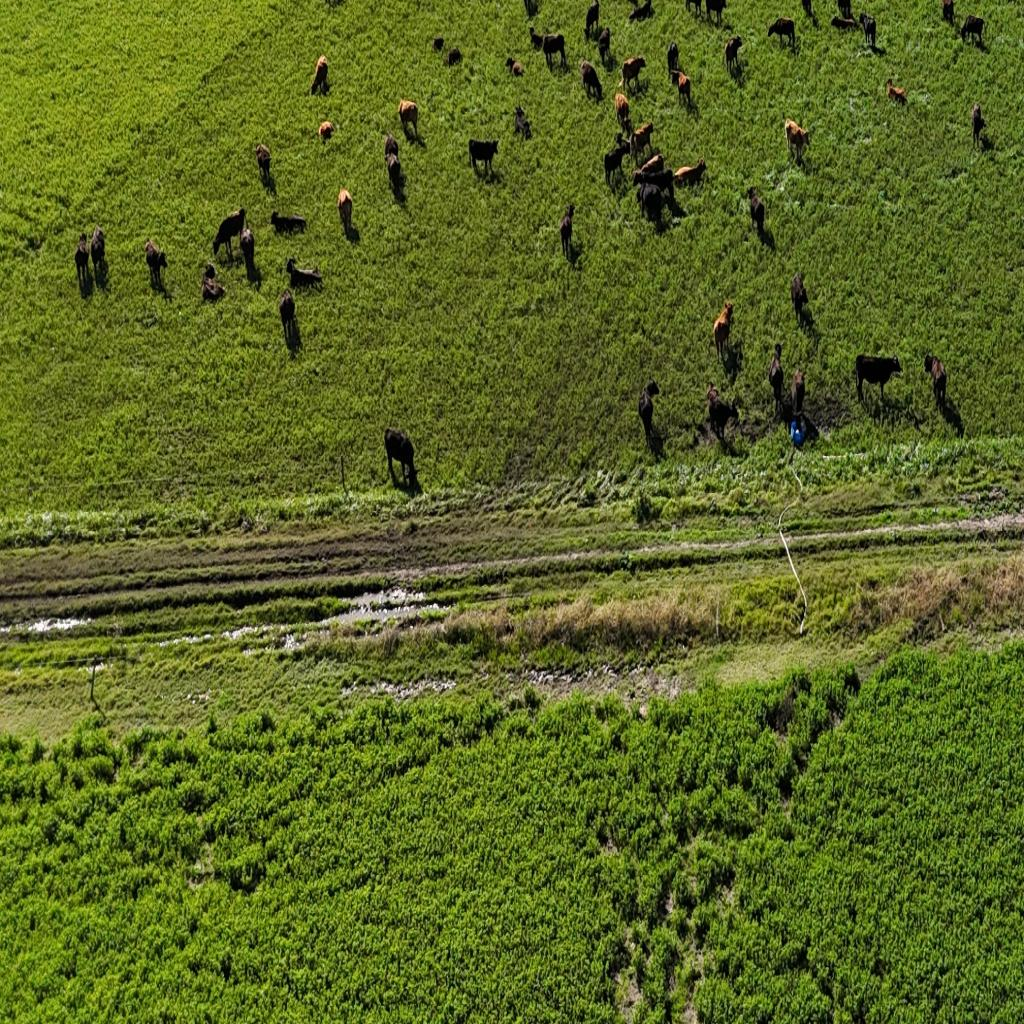cow: (855, 352, 904, 409), (704, 383, 738, 442), (383, 425, 415, 487), (634, 164, 674, 206), (214, 206, 246, 258), (638, 378, 660, 451), (712, 295, 733, 362), (923, 352, 947, 410), (604, 138, 631, 188), (785, 116, 811, 164), (468, 137, 498, 178), (286, 256, 322, 290), (673, 156, 706, 191), (768, 345, 784, 417), (144, 236, 166, 288), (720, 338, 744, 384), (790, 268, 809, 324), (629, 120, 654, 162), (632, 152, 664, 184), (542, 31, 568, 69), (270, 208, 306, 235), (202, 262, 226, 302), (621, 54, 646, 92), (642, 182, 664, 225), (669, 68, 692, 109), (90, 226, 107, 280), (580, 59, 602, 100), (559, 204, 575, 260), (768, 18, 794, 52), (959, 14, 985, 48), (387, 150, 405, 198), (970, 100, 988, 148), (747, 186, 765, 233), (791, 368, 805, 428), (278, 288, 295, 336), (75, 231, 90, 285), (398, 98, 418, 138), (281, 314, 301, 354), (614, 90, 631, 134), (311, 53, 329, 94), (724, 35, 742, 75), (255, 140, 271, 182), (886, 77, 907, 108), (338, 185, 352, 231), (859, 13, 876, 47), (514, 102, 531, 136), (585, 0, 600, 37), (628, 0, 652, 23), (705, 0, 726, 26), (259, 164, 276, 196), (383, 131, 399, 163), (831, 14, 857, 32), (667, 40, 679, 78), (598, 26, 610, 62), (528, 26, 544, 50), (800, 0, 816, 23), (685, 0, 705, 18), (837, 0, 854, 20), (507, 58, 524, 76), (318, 121, 334, 140), (942, 0, 954, 25), (523, 0, 539, 18), (447, 47, 461, 66), (203, 262, 217, 280), (432, 36, 444, 51)
